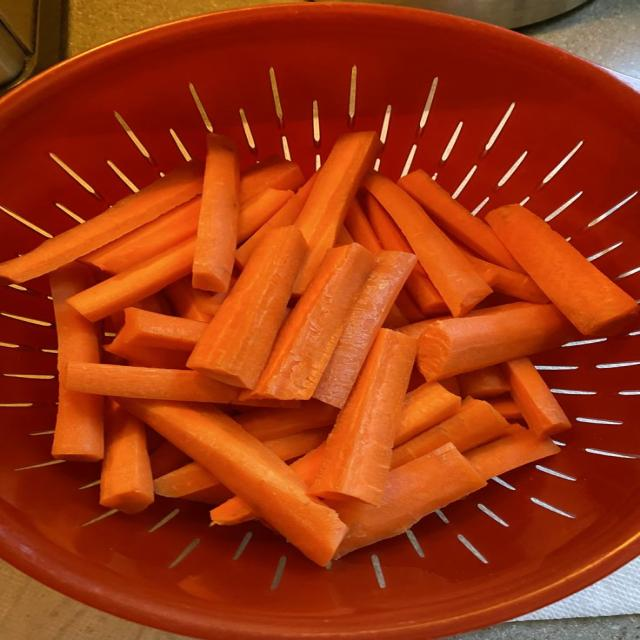carrot: (120, 399, 346, 565), (0, 162, 202, 282), (487, 205, 639, 335), (247, 244, 374, 399), (188, 226, 306, 388), (311, 330, 416, 504), (365, 173, 491, 316), (334, 443, 486, 556), (314, 252, 415, 407), (294, 132, 380, 294), (399, 170, 521, 271), (418, 303, 574, 380), (50, 263, 103, 461), (68, 239, 194, 320), (80, 197, 200, 274), (392, 400, 508, 468), (193, 134, 239, 292), (236, 175, 314, 267), (66, 362, 237, 403), (100, 400, 153, 514), (502, 358, 571, 435), (467, 428, 559, 480), (464, 252, 548, 303), (234, 400, 338, 440), (394, 383, 460, 446), (118, 308, 206, 352), (104, 330, 187, 369), (237, 188, 293, 243), (240, 156, 304, 204), (365, 194, 413, 252), (154, 462, 220, 497), (164, 276, 213, 322), (345, 199, 382, 253), (345, 200, 383, 252), (195, 275, 237, 317), (459, 366, 510, 399), (150, 441, 190, 477), (210, 497, 255, 525), (398, 316, 452, 339), (211, 497, 255, 525), (181, 484, 233, 506), (231, 397, 302, 411), (133, 291, 173, 315), (132, 292, 173, 315), (396, 289, 424, 322), (488, 396, 522, 420), (466, 303, 521, 317), (383, 305, 407, 328), (147, 427, 166, 453), (407, 365, 425, 392), (439, 376, 462, 396), (335, 225, 354, 245)
